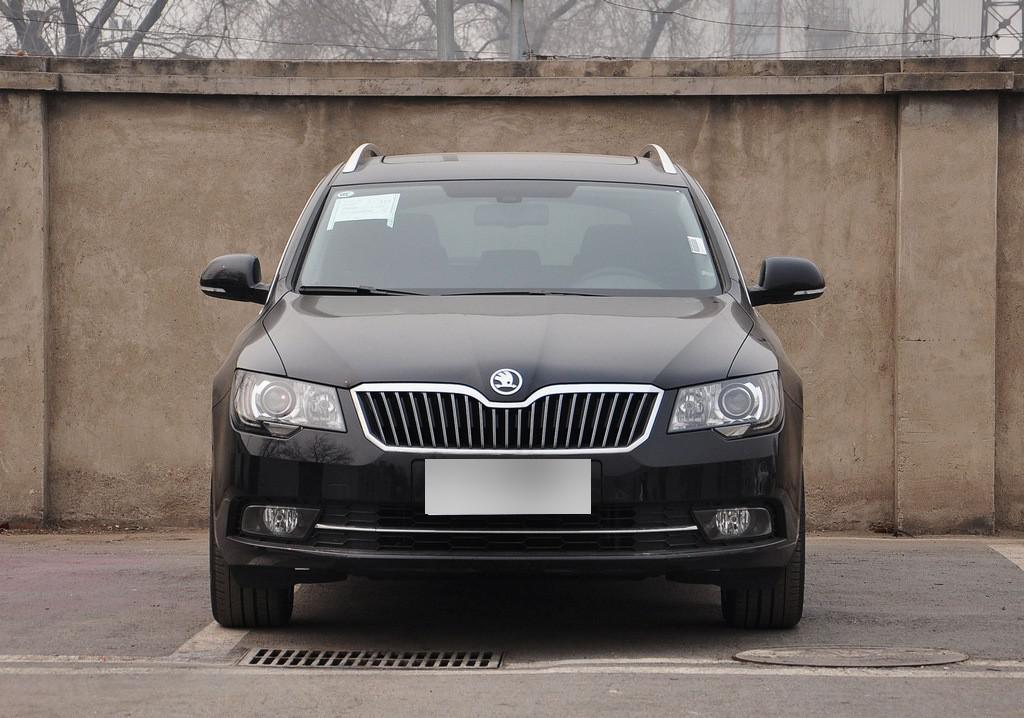Wagon: (199, 141, 824, 629)
